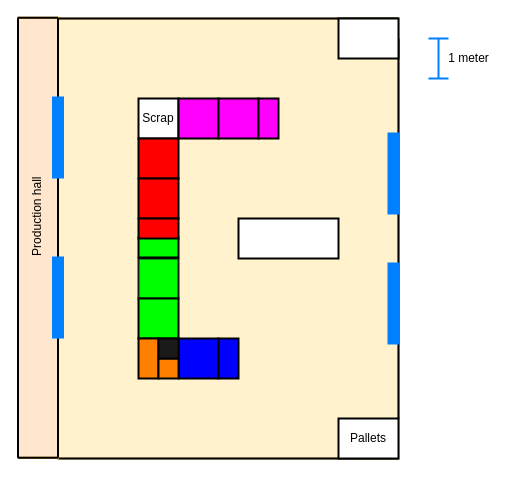
The diagram is 516 pixels wide and 478 high, and some of its shapes have lost their labels. The centre of each missing label's shape, as x and y in pixels:
"Garbage" belongs at point 368,38.
"Order picking" belongs at point 288,238.
